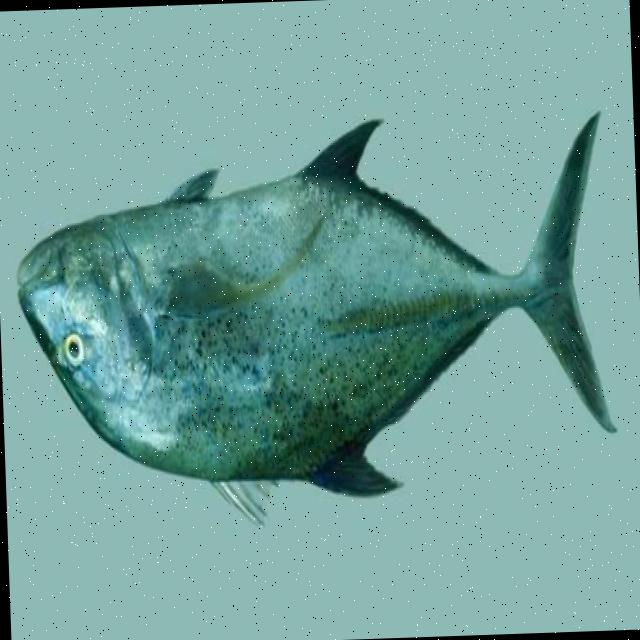ikan: (10, 107, 620, 538)
